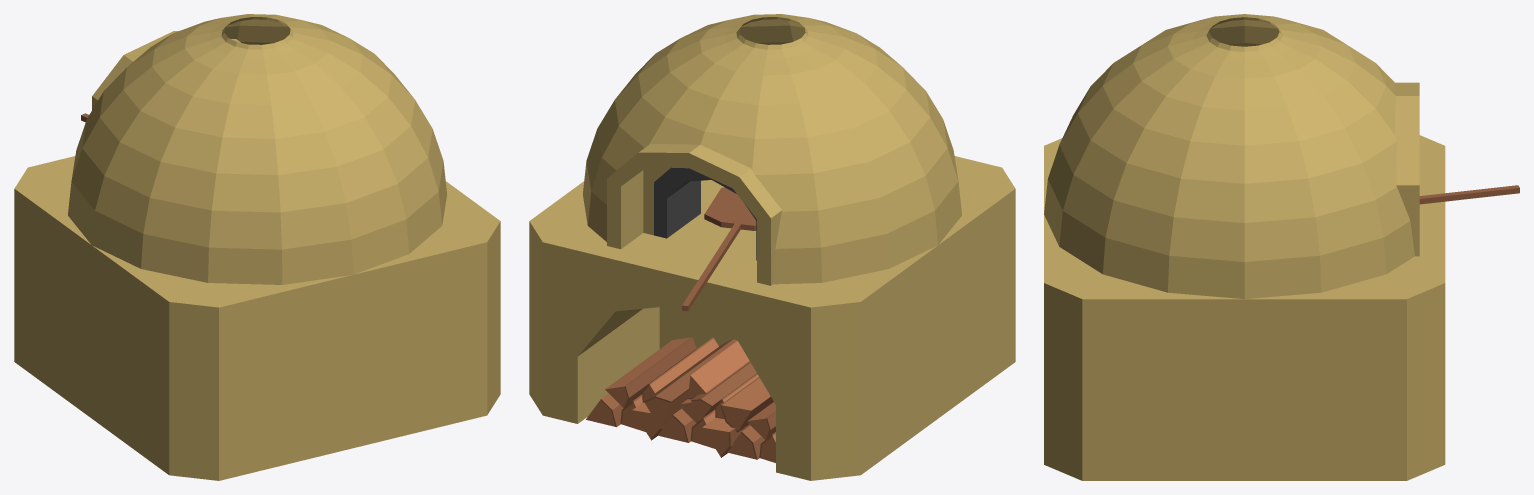
The model's file is Oven01.fbx.
3 renders of one model, left to right at view 1: azimuth 30°, elevation 25°; view 2: azimuth 150°, elevation 25°; view 3: azimuth 270°, elevation 25°, orthographic. The views are drawn at different scales.
Visible parts, largest first — view 1: Oven01; view 2: Oven01; view 3: Oven01.
Part boxes in pixels (x1=…): Oven01: x1=14, y1=14, x2=500, y2=480; Oven01: x1=529, y1=14, x2=1015, y2=480; Oven01: x1=1044, y1=14, x2=1519, y2=480.
Bounding box in the file's own units: 200 × 203 × 237.
